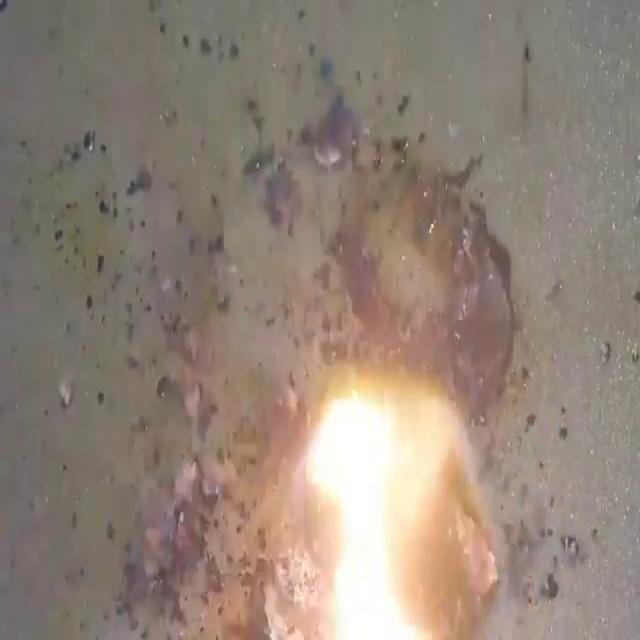Fire: (251, 339, 527, 638)
